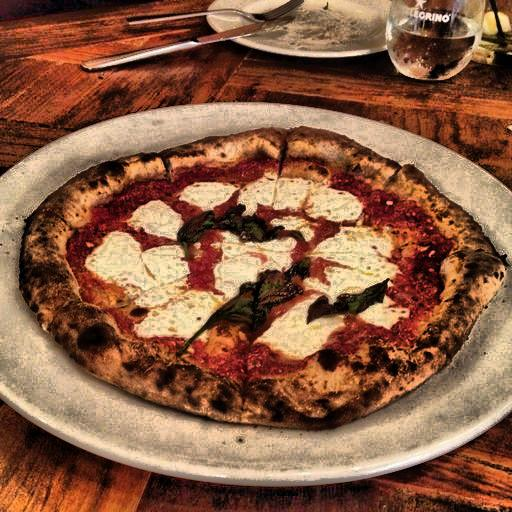pizza: (27, 83, 505, 441)
